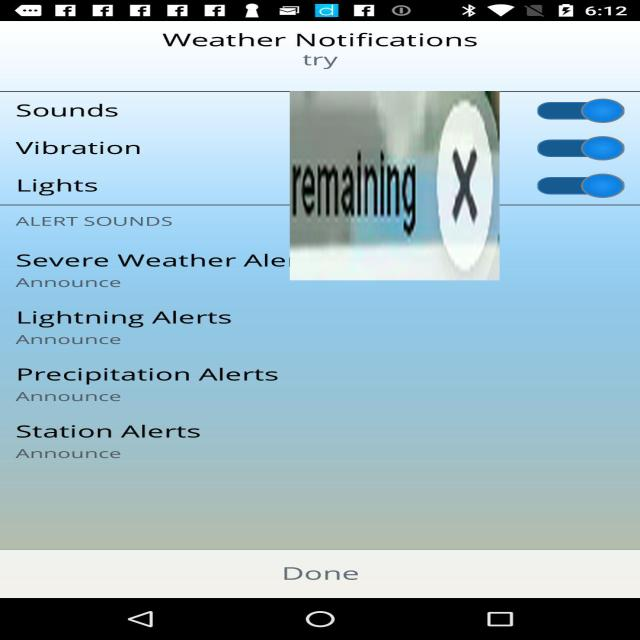misdirection: (290, 91, 500, 280)
